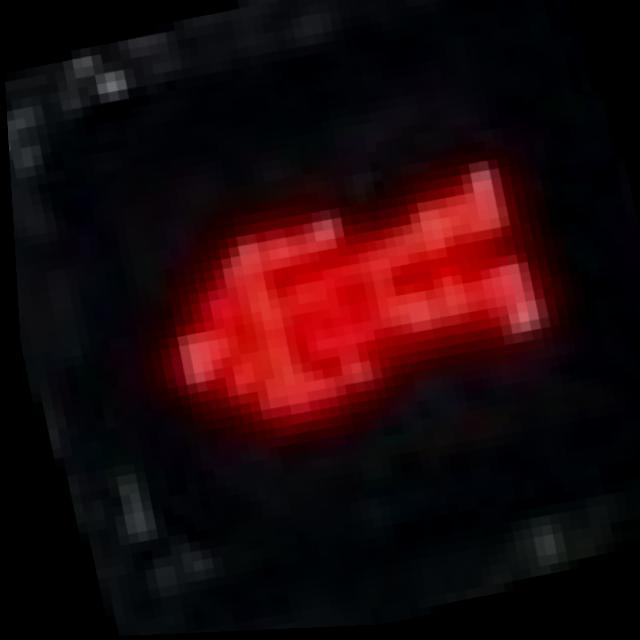red_light: (37, 20, 598, 574)
